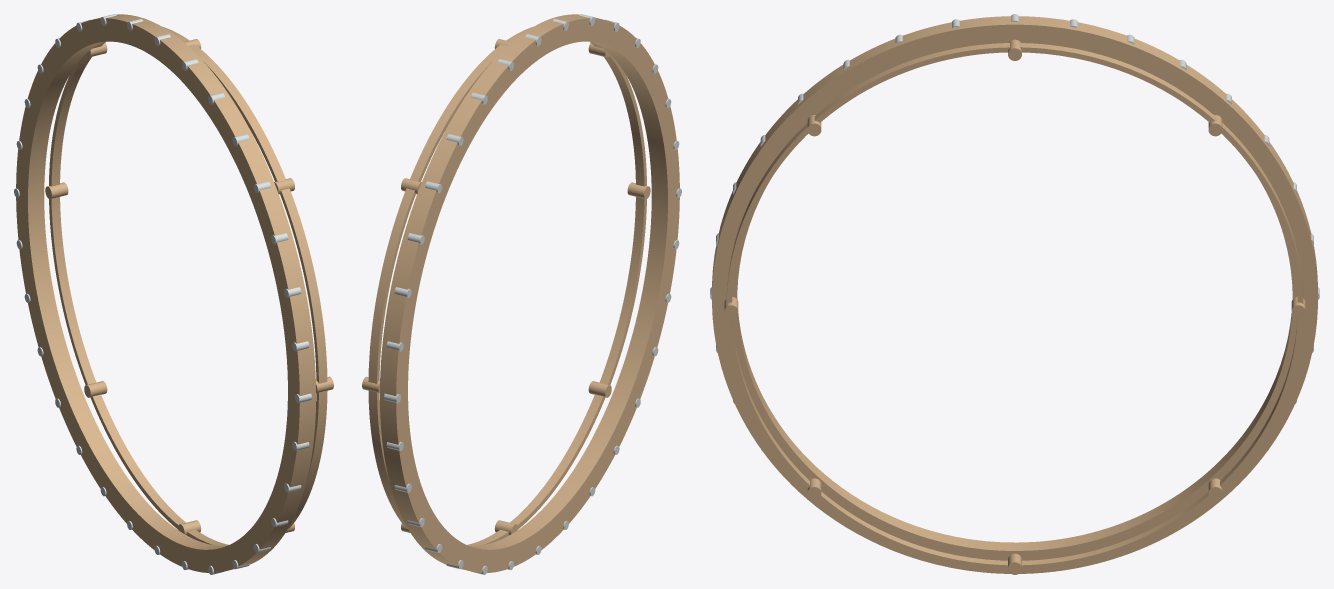
Rendered from intake-lip-hardware.glb.
The picture shows the model from 3 angles, left to right: view 1: azimuth 30°, elevation 25°; view 2: azimuth 150°, elevation 25°; view 3: azimuth 270°, elevation 25°; orthographic projection. The views are drawn at different scales.
Parts seen in each view (by area): view 1: intake-lip-hardware - bronze, intake-lip-hardware - fastener; view 2: intake-lip-hardware - bronze, intake-lip-hardware - fastener; view 3: intake-lip-hardware - bronze, intake-lip-hardware - fastener.
Part boxes in pixels (box(x1,y1,x2,y2)): intake-lip-hardware - bronze: box(16, 14, 333, 572); intake-lip-hardware - fastener: box(14, 14, 311, 574); intake-lip-hardware - bronze: box(362, 14, 679, 572); intake-lip-hardware - fastener: box(384, 14, 681, 574); intake-lip-hardware - bronze: box(712, 16, 1317, 574); intake-lip-hardware - fastener: box(710, 14, 1319, 450).
Size of the model in its own units: 0.174 by 2.09 by 2.09.
